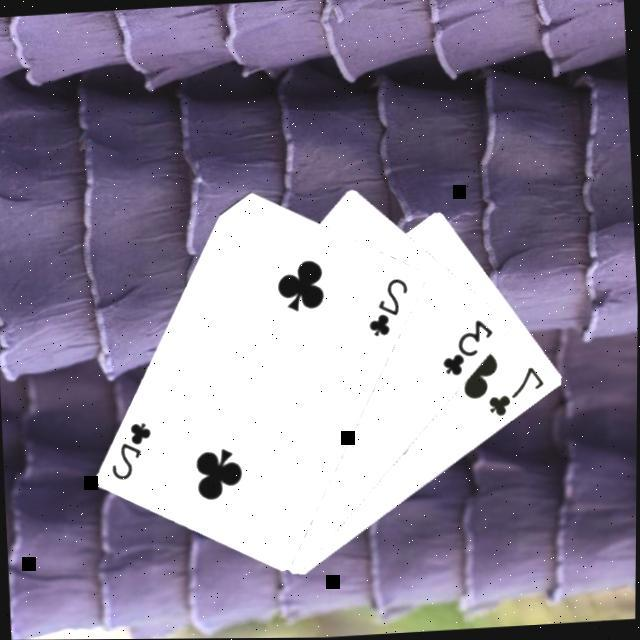2C: (365, 275, 416, 341), (109, 418, 160, 484)
3C: (440, 316, 502, 381)
7C: (486, 364, 552, 422)
